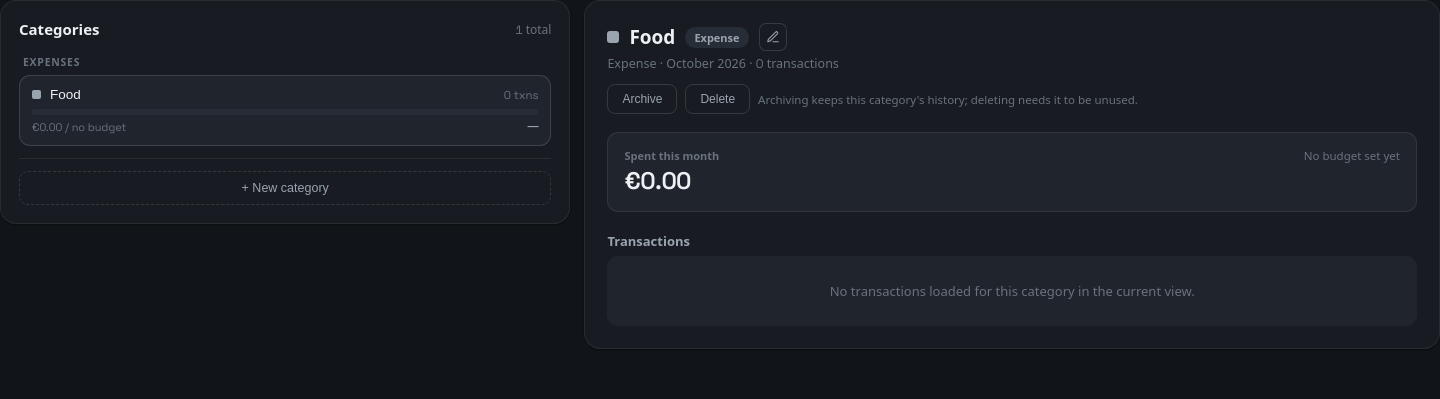
Test: CategoriesPage renaming › keeps the rename open with the reason when the name is already taken
Click the button titled "Rename category" at x=773, y=37, box [759,23,787,51]
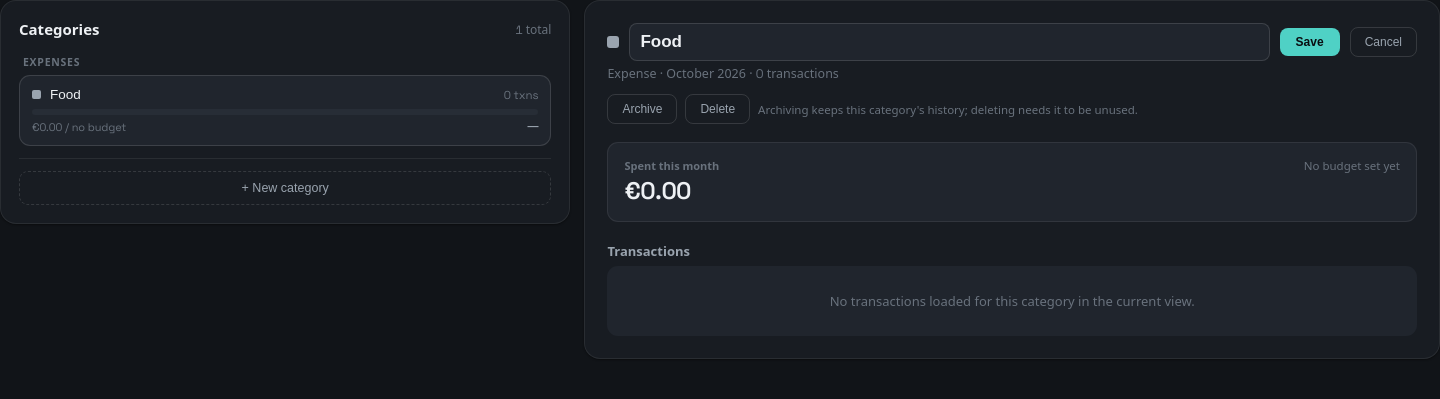
Replace the text in the field titled "Category name" with "Rent" at x=950, y=42, box [629,23,1270,61]
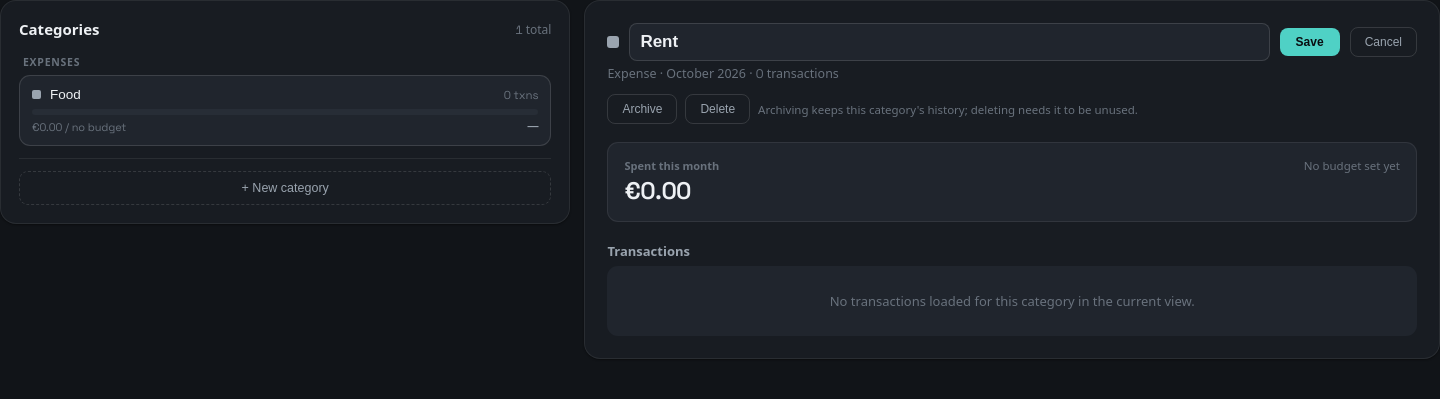
Click the button "Save" at x=1310, y=42, box [1280,28,1340,56]
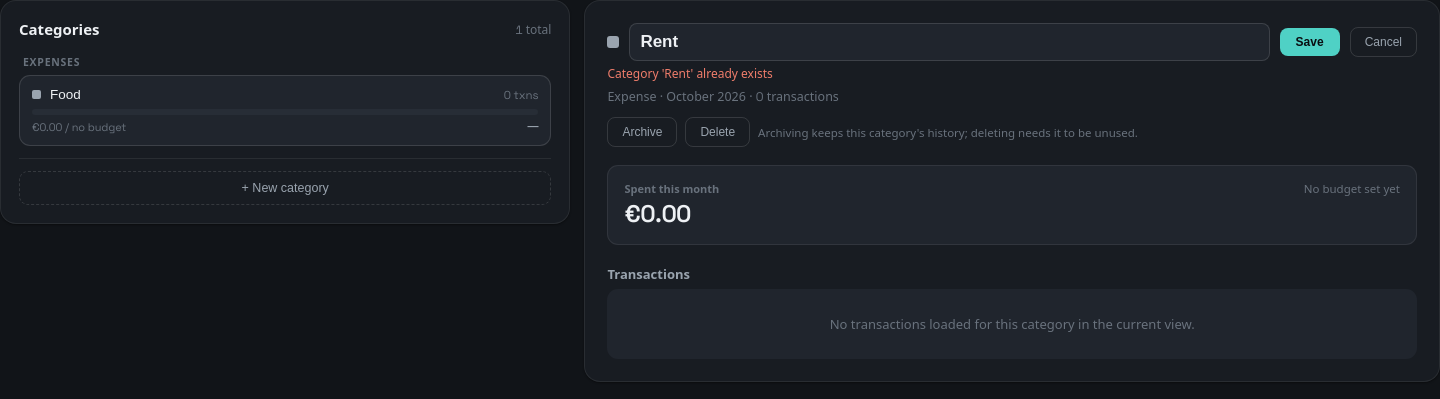
Expected: the text "Category 'Rent' already exists" is shown, [607,65,773,82]
